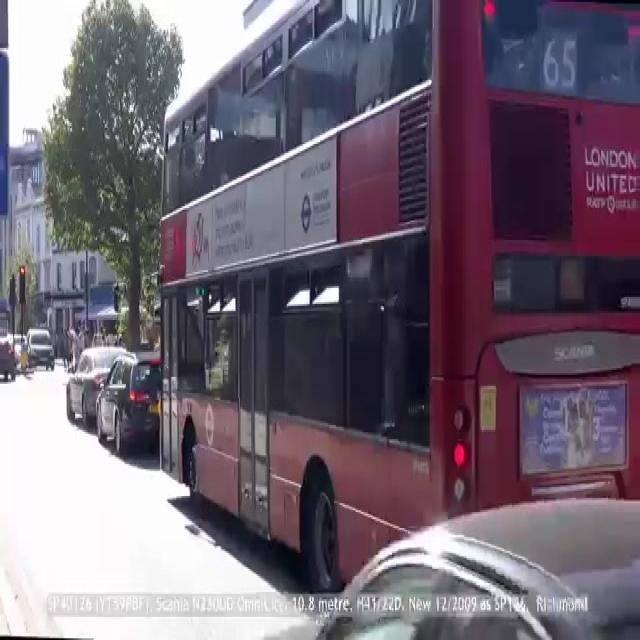Bus: (97, 4, 640, 618)
